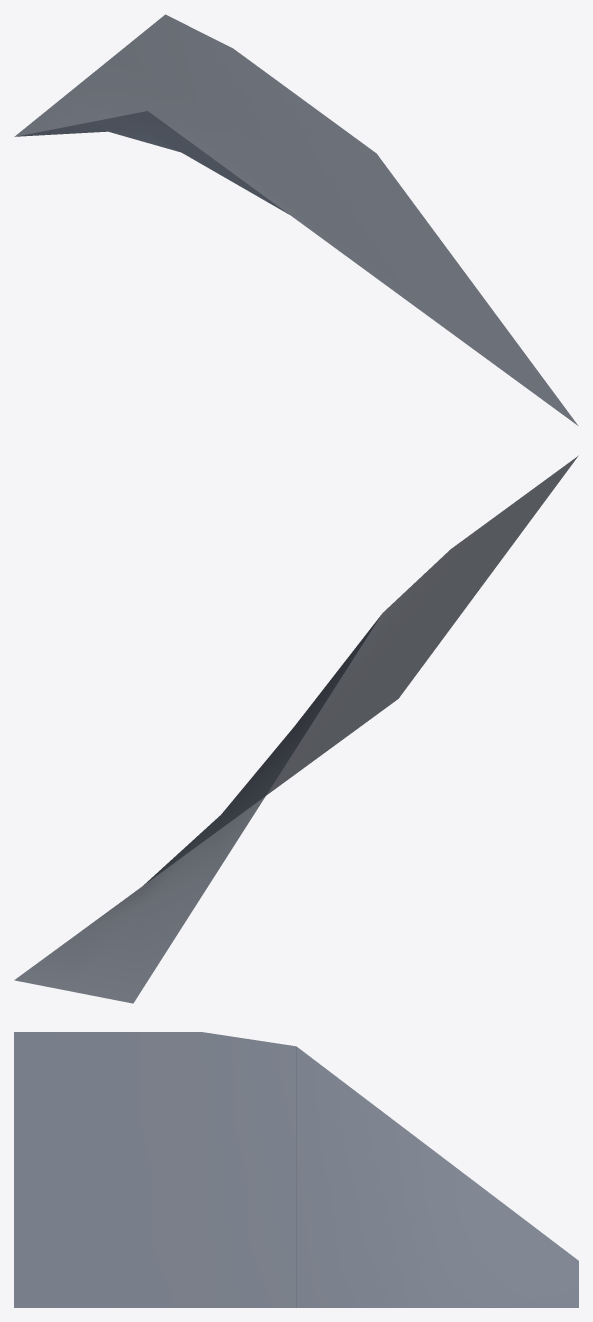
Rendered from side_window_front_left.glb.
The picture shows the model from 3 angles, top to bottom: view 1: azimuth 30°, elevation 25°; view 2: azimuth 150°, elevation 25°; view 3: azimuth 270°, elevation 25°; orthographic projection. The views are drawn at different scales.
Visible parts, largest first — view 1: GEO_SideWindow_FL; view 2: GEO_SideWindow_FL; view 3: GEO_SideWindow_FL.
Boxes of the visible parts, <box> form: GEO_SideWindow_FL: <box>14,14,578,425</box>; GEO_SideWindow_FL: <box>14,455,578,1003</box>; GEO_SideWindow_FL: <box>14,1032,578,1307</box>.
Bounding box in the file's own units: 0.325 × 0.495 × 1.2.
